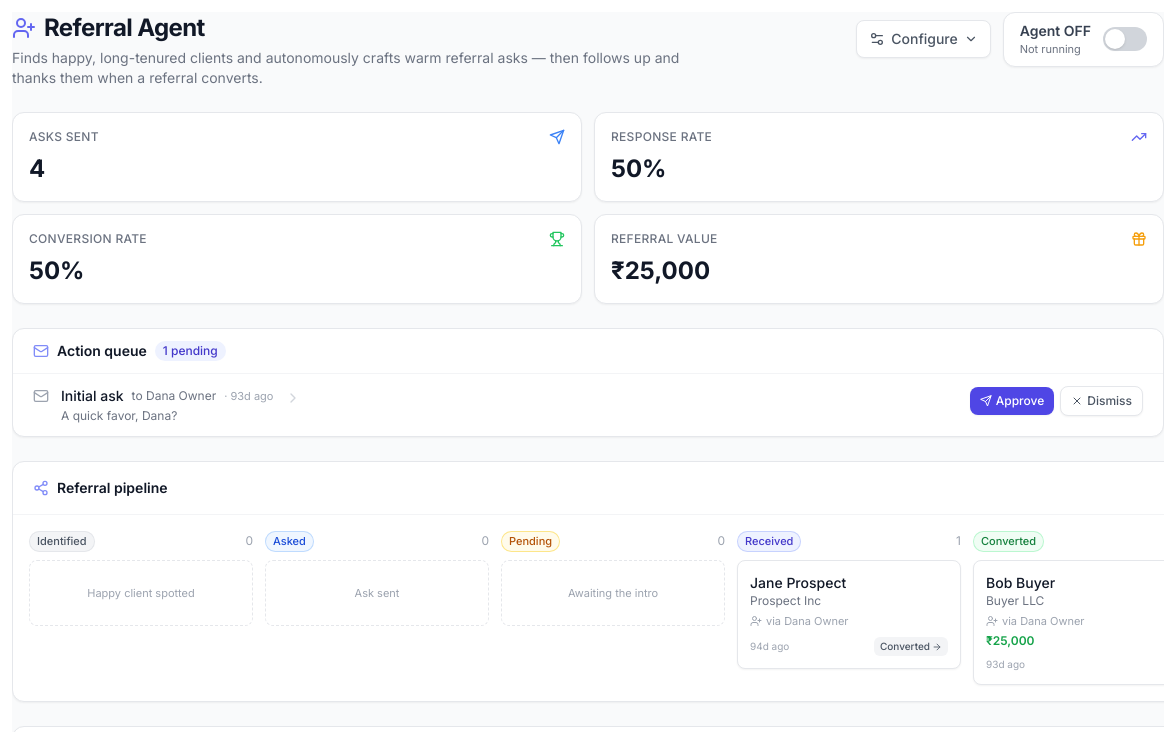
ReferralAgent page › opens the configuration panel and shows the model + key inputs
Step 1. Click the button "Configure" → (923, 39), box [856, 20, 991, 58]
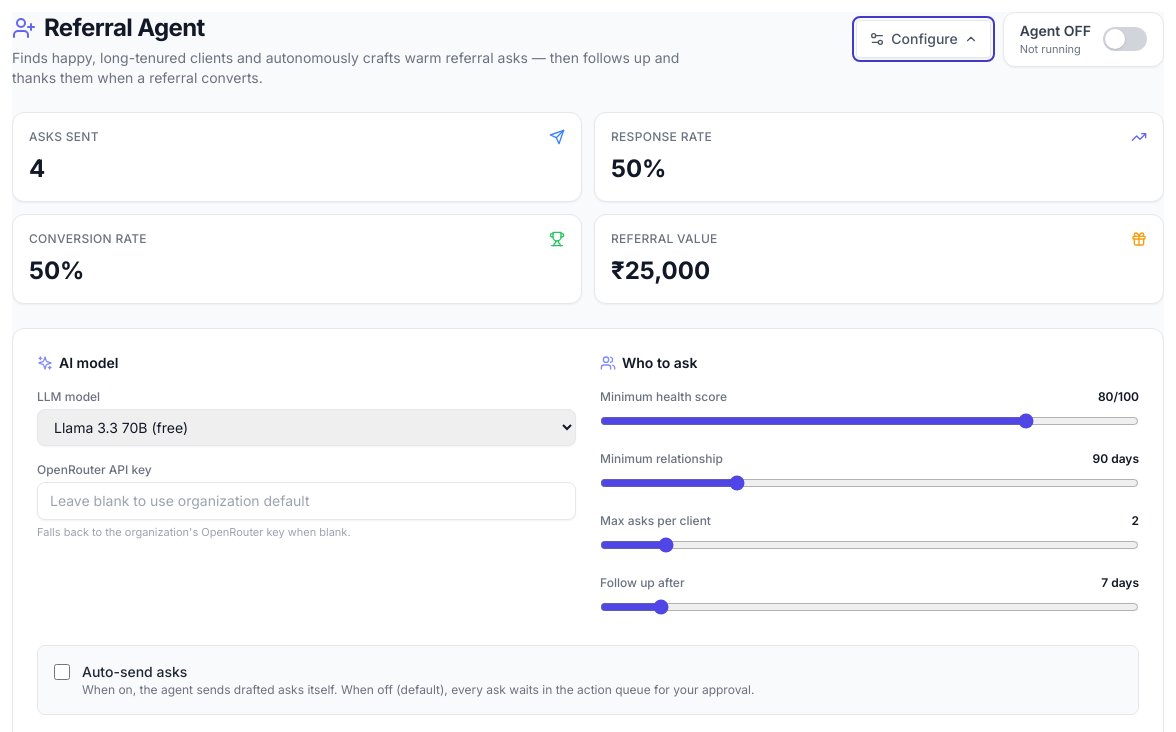
Expected: the text "LLM model" is shown, [37, 389, 100, 404]
Expected: the text "OpenRouter API key" is shown, [37, 462, 152, 477]
Expected: the text "Minimum health score" is shown, [600, 389, 727, 405]
